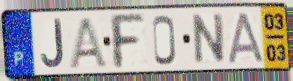0: (151, 14, 178, 67)
A: (67, 15, 110, 69), (226, 11, 266, 65)
F: (107, 12, 147, 71)
J: (40, 17, 66, 70)
N: (191, 12, 226, 66)
